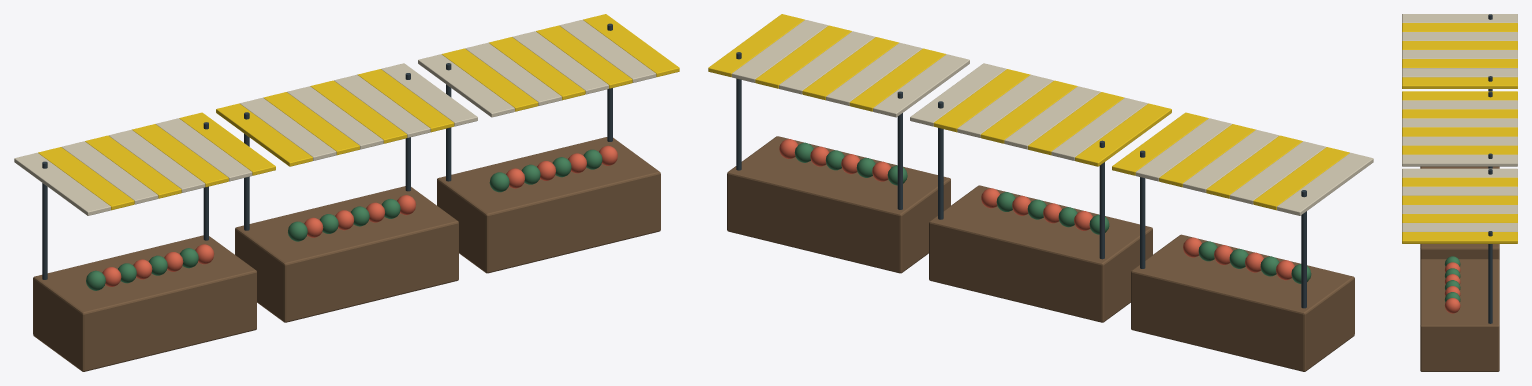
Rendered from food-market.glb.
The picture shows the model from 3 angles, left to right: view 1: azimuth 30°, elevation 25°; view 2: azimuth 150°, elevation 25°; view 3: azimuth 270°, elevation 25°; orthographic projection. The views are drawn at different scales.
Parts seen in each view (by area): view 1: DC_Mesh_DC_Wood, DC_Mesh_DC_Ivory, DC_Mesh_DC_Yellow, DC_Mesh_DC_Green, DC_Mesh_DC_Coral, DC_Mesh_DC_Steel; view 2: DC_Mesh_DC_Wood, DC_Mesh_DC_Ivory, DC_Mesh_DC_Yellow, DC_Mesh_DC_Steel, DC_Mesh_DC_Coral, DC_Mesh_DC_Green; view 3: DC_Mesh_DC_Yellow, DC_Mesh_DC_Ivory, DC_Mesh_DC_Wood, DC_Mesh_DC_Steel, DC_Mesh_DC_Coral, DC_Mesh_DC_Green.
Part boxes in pixels (bbox=[...]): DC_Mesh_DC_Wood: bbox=[33, 137, 660, 371]; DC_Mesh_DC_Ivory: bbox=[14, 19, 656, 215]; DC_Mesh_DC_Yellow: bbox=[38, 14, 679, 210]; DC_Mesh_DC_Green: bbox=[86, 149, 602, 290]; DC_Mesh_DC_Coral: bbox=[102, 145, 617, 286]; DC_Mesh_DC_Steel: bbox=[42, 23, 612, 279]; DC_Mesh_DC_Wood: bbox=[727, 136, 1354, 371]; DC_Mesh_DC_Ivory: bbox=[731, 19, 1373, 215]; DC_Mesh_DC_Yellow: bbox=[708, 14, 1349, 210]; DC_Mesh_DC_Steel: bbox=[736, 52, 1306, 308]; DC_Mesh_DC_Coral: bbox=[779, 139, 1294, 280]; DC_Mesh_DC_Green: bbox=[794, 142, 1311, 283]; DC_Mesh_DC_Yellow: bbox=[1402, 23, 1517, 243]; DC_Mesh_DC_Ivory: bbox=[1402, 14, 1517, 231]; DC_Mesh_DC_Wood: bbox=[1420, 166, 1499, 371]; DC_Mesh_DC_Steel: bbox=[1488, 14, 1492, 323]; DC_Mesh_DC_Coral: bbox=[1444, 262, 1460, 313]; DC_Mesh_DC_Green: bbox=[1444, 256, 1460, 302].
Size of the model in its own units: 8.8 by 2.5 by 1.9.
